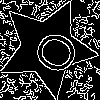O: (22, 22, 82, 78)
